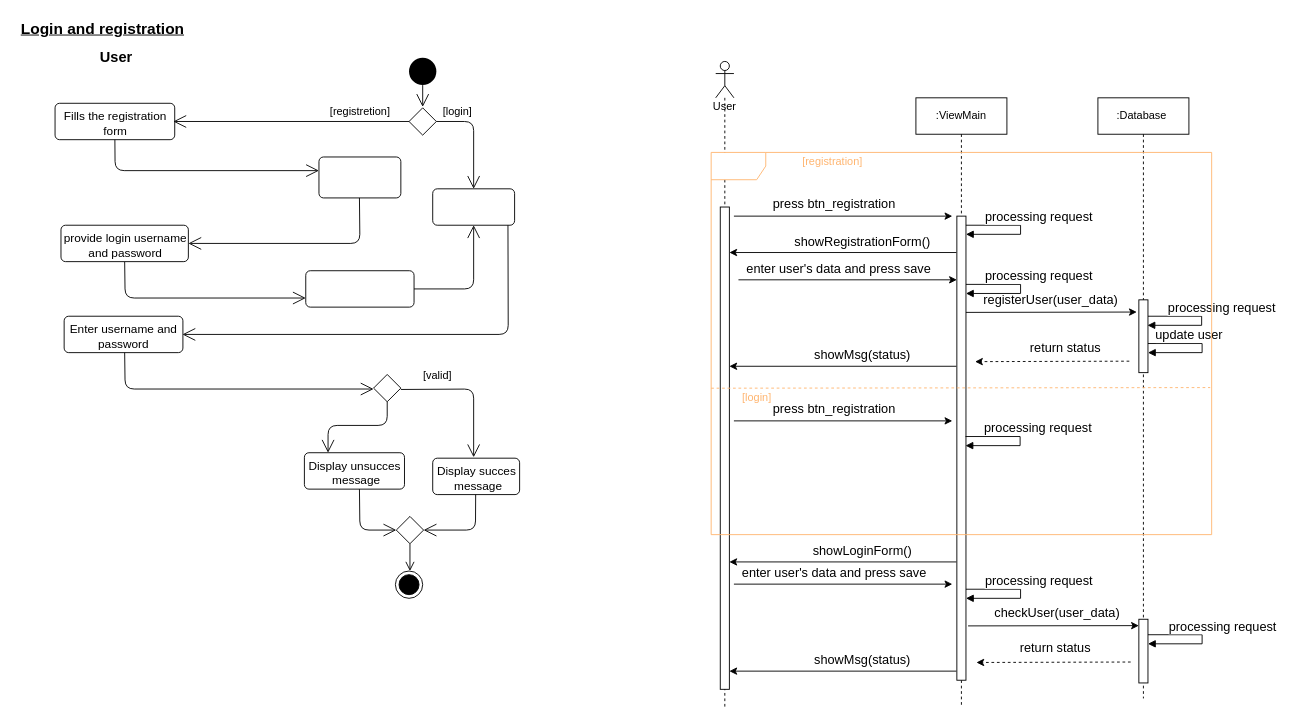
Image size: 1292x723. Some labels were removed from this diagram. Here are the shapes that lost their labels. From the top down, the box of each, then its label:
(318, 156, 401, 198): Validates information
(432, 188, 515, 225): Display login form
(305, 270, 414, 307): Save username and password
(710, 152, 1212, 535): alt
